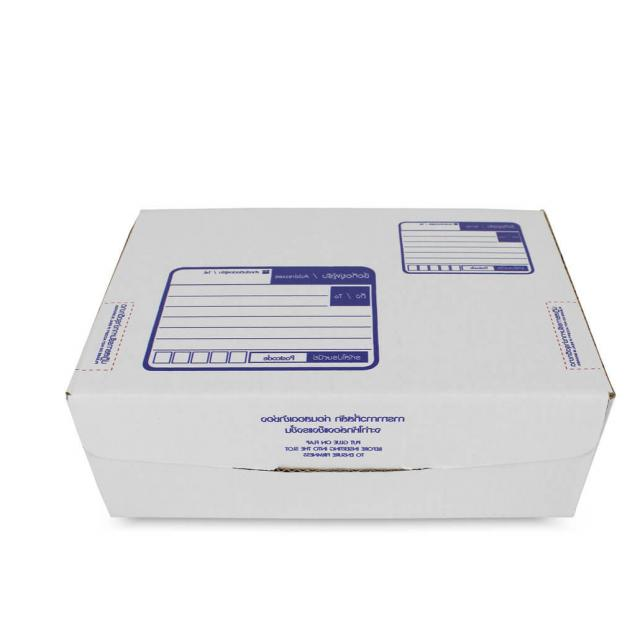box: (63, 184, 618, 545)
